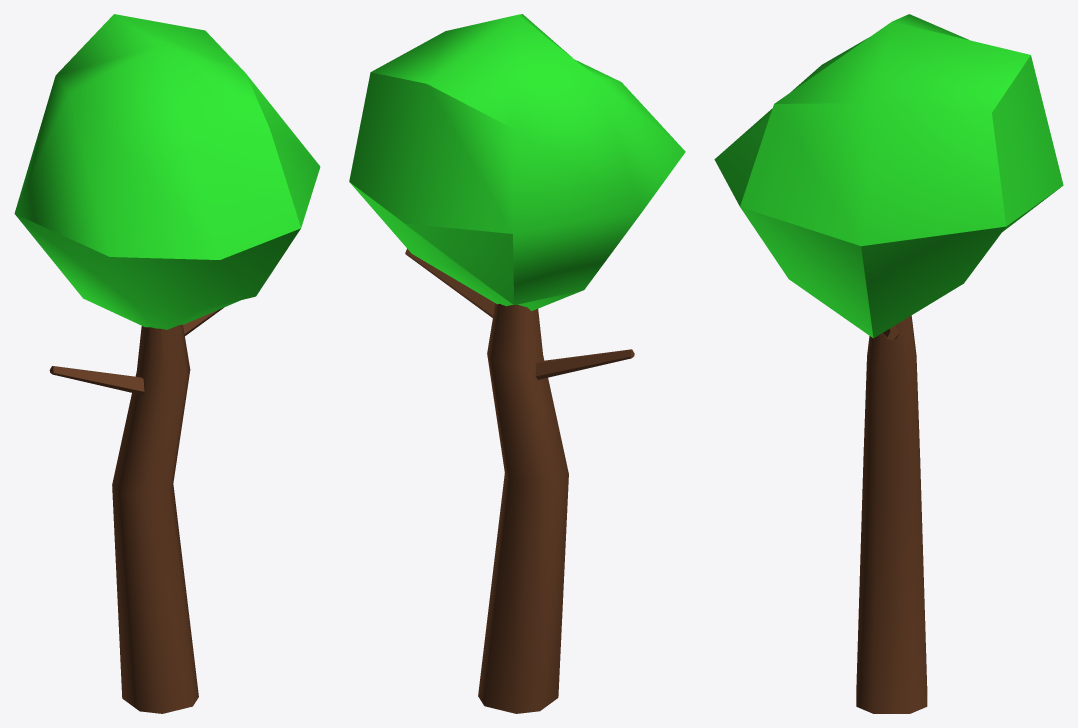
The model's file is Tree_3.fbx.
3 views of the same model, side by side, from view 1: azimuth 30°, elevation 25°; view 2: azimuth 150°, elevation 25°; view 3: azimuth 270°, elevation 25° (orthographic). The views are drawn at different scales.
Parts seen in each view (by area): view 1: Tree_3; view 2: Tree_3; view 3: Tree_3.
Boxes of the visible parts, x1,y1,x2,y2 form: Tree_3: (14, 14, 320, 713); Tree_3: (349, 14, 685, 713); Tree_3: (714, 14, 1063, 713).
Size of the model in its own units: 93.42 by 209 by 97.88.
